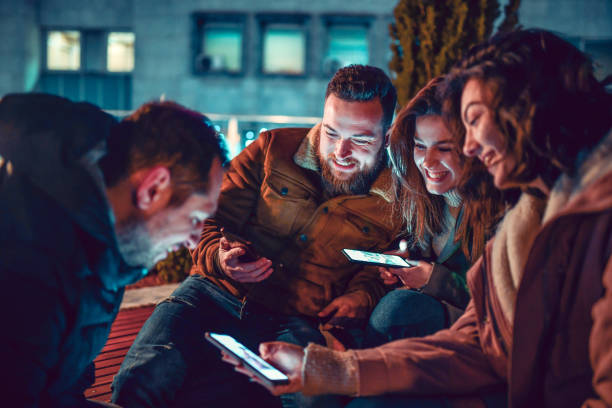without mask: (125, 111, 229, 276), (310, 69, 396, 207), (406, 94, 478, 212), (463, 68, 535, 186)
